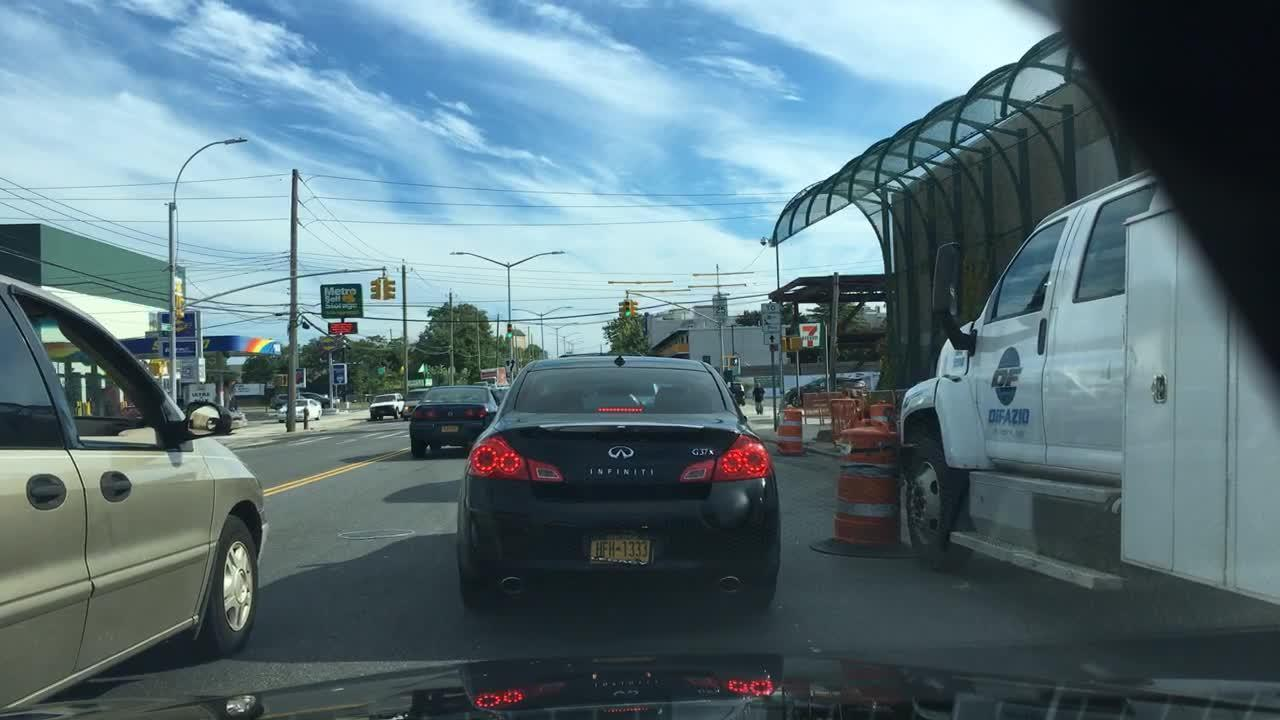Infiniti: (601, 442, 642, 460)
